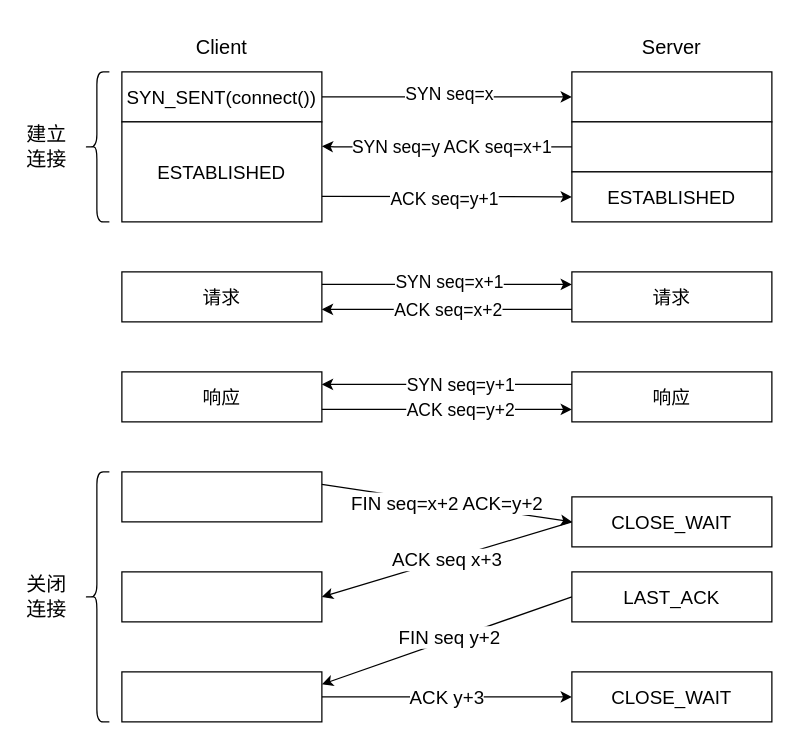
Some shapes in this 794 by 744 pixel diagram are drawn without their labels. Here are the shapes that lost their labels. From the top down, the box of each, then its label:
(571, 71, 772, 122): LISTEN(listen())
(571, 121, 772, 172): SYN_RECV
(121, 471, 322, 522): FIN_WAIT_1
(121, 571, 322, 622): FIN_WAIT_2
(121, 671, 322, 722): TIME_WAIT
